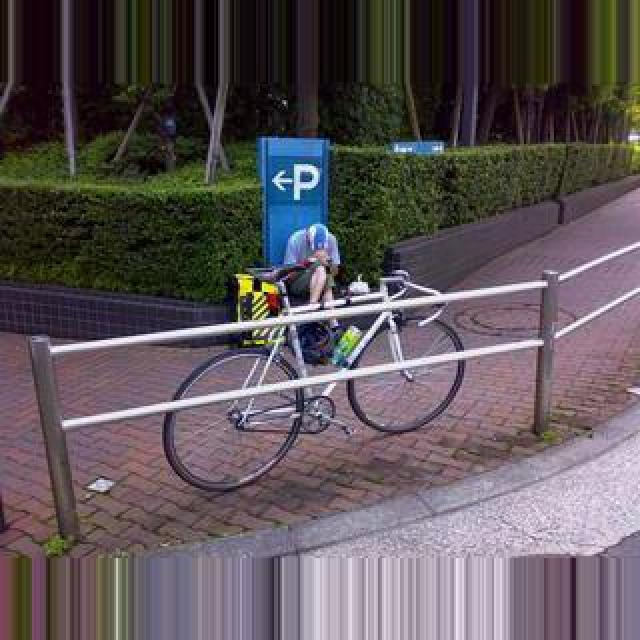MC-Bike: (280, 222, 348, 308)
Person: (164, 264, 480, 486)
